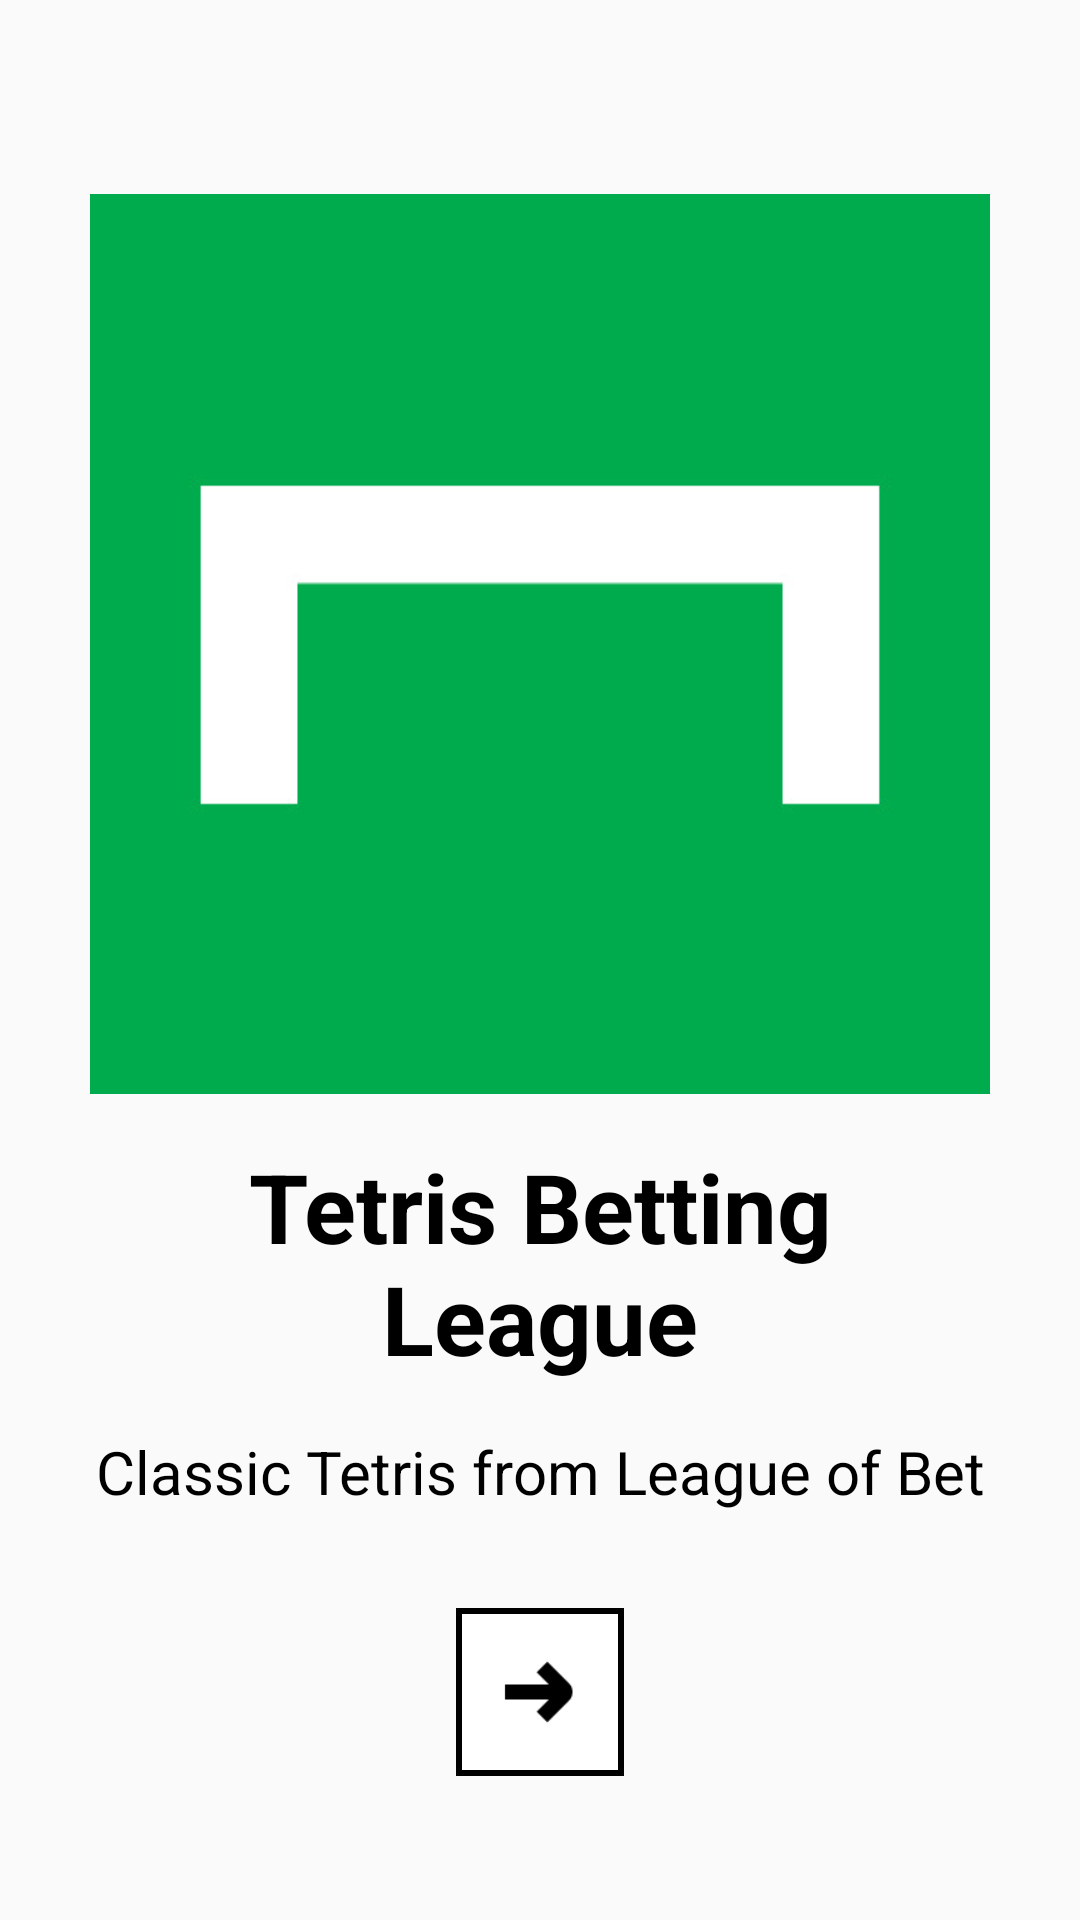

Named icons in this screenshot (1080×1920) and their bounding boxes, (x1, y1, x2, y2):
arrow: (456, 1608, 624, 1776)
